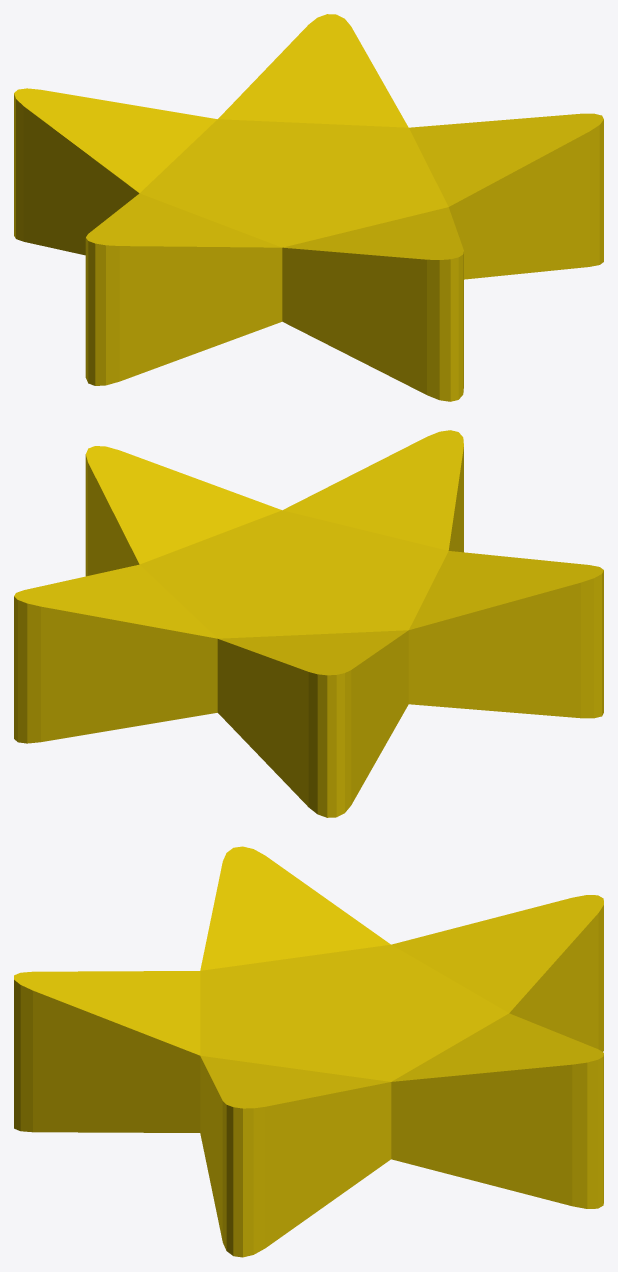
File: star.dae
3 views of the same model, one above another, from view 1: azimuth 30°, elevation 25°; view 2: azimuth 150°, elevation 25°; view 3: azimuth 270°, elevation 25° (orthographic). The views are drawn at different scales.
Visible parts, largest first — view 1: Cylinder; view 2: Cylinder; view 3: Cylinder.
Part boxes in pixels (bbox=[...]): Cylinder: bbox=[14, 14, 603, 401]; Cylinder: bbox=[14, 430, 603, 817]; Cylinder: bbox=[14, 846, 603, 1257].
Bounding box in the file's own units: 1.76 × 1.67 × 0.4654.
